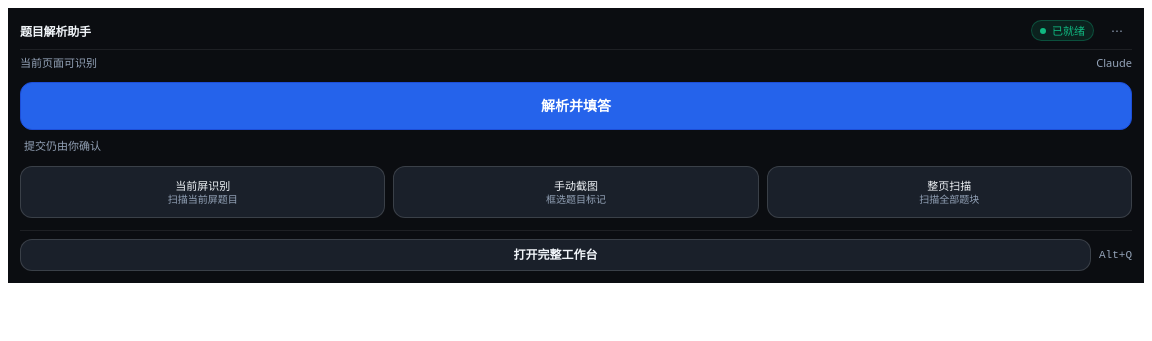
it: PopupApp protected dispatch authority › RC03A_R5_POPUP_BUSY reports an existing cross-surface run without false success
The width and height of the screenshot is (1152, 341).
Click the text "当前屏识别" at (203,185), box [175,179,230,192]
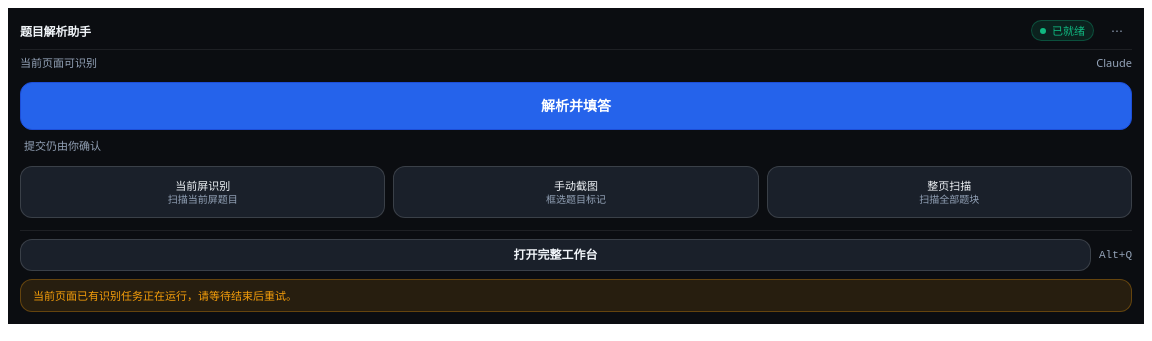
Check: the text "当前页面已有识别任务正在运行，请等待结束后重试。" is shown, box [33,288,297,303]
